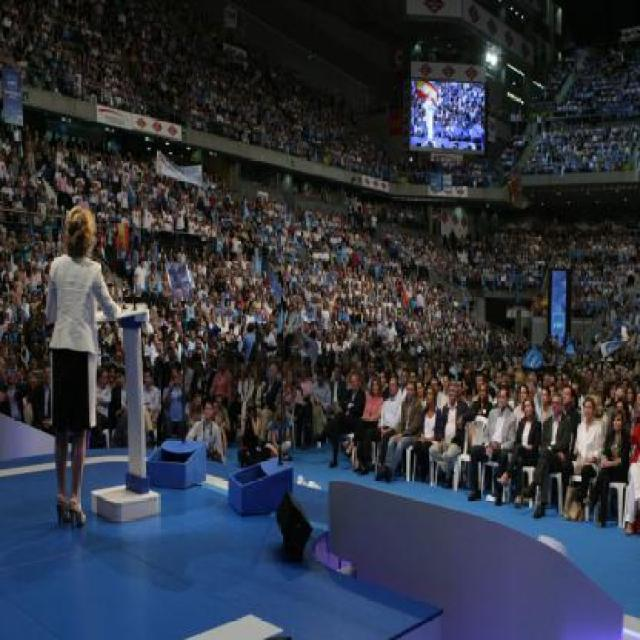Person: (0, 2, 406, 180), (319, 326, 639, 526), (0, 139, 386, 263), (158, 243, 340, 452), (462, 6, 638, 188), (41, 198, 119, 518), (0, 264, 155, 424), (353, 264, 544, 370), (382, 202, 540, 292), (540, 212, 638, 303), (406, 79, 491, 141)
